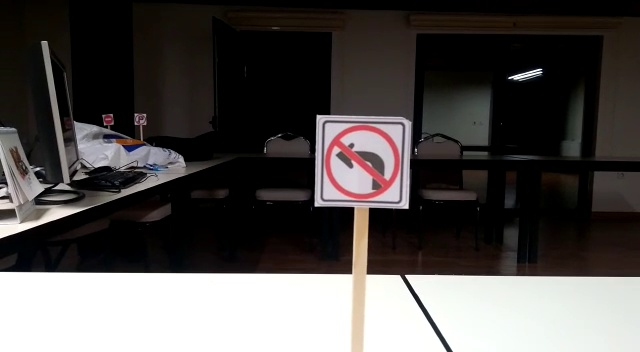sola_donulmez: (320, 121, 407, 203)
